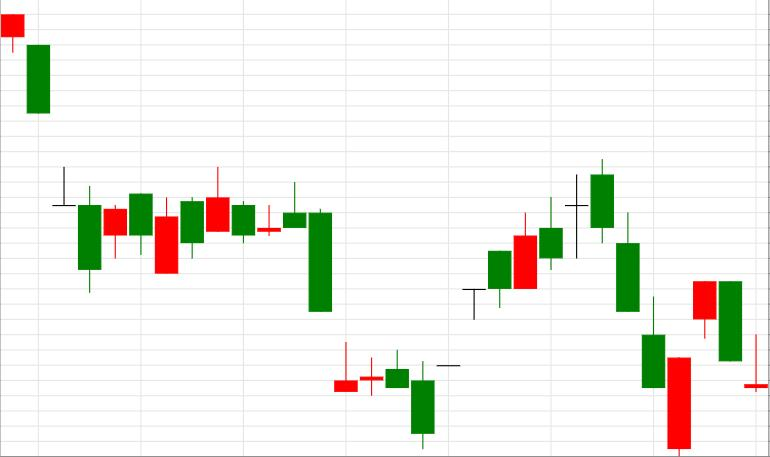three_black_crows_fall: (411, 158, 665, 449)
